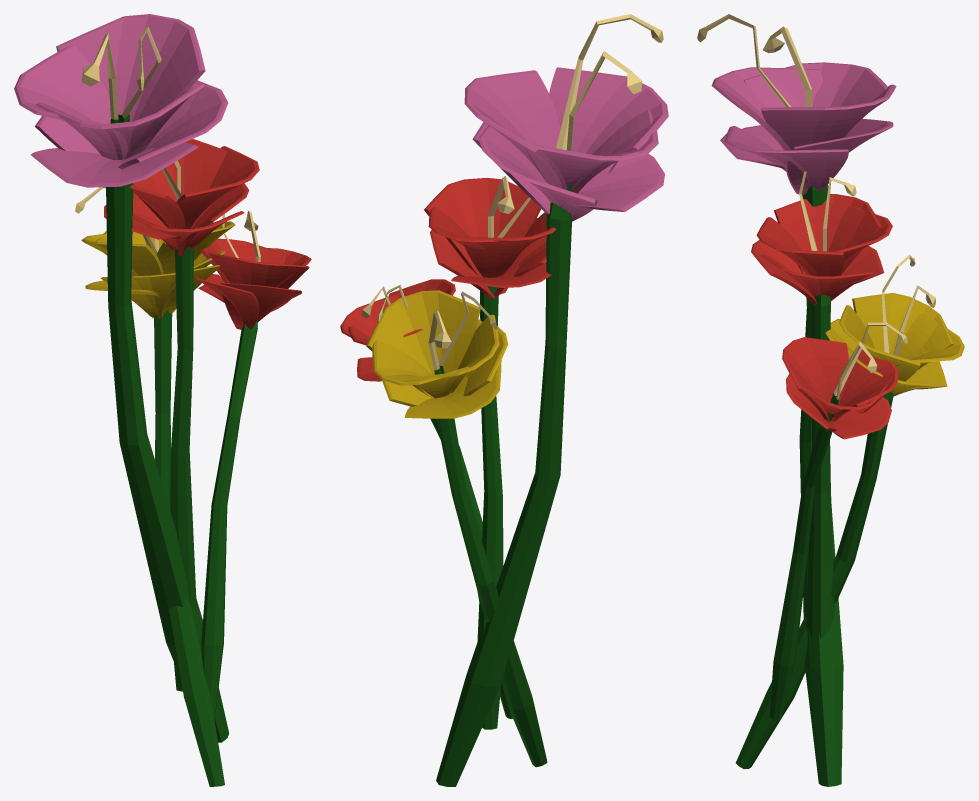
File: flowers.fbx
The picture shows the model from 3 angles, left to right: view 1: azimuth 30°, elevation 25°; view 2: azimuth 150°, elevation 25°; view 3: azimuth 270°, elevation 25°; orthographic projection. The views are drawn at different scales.
Parts seen in each view (by area): view 1: flowers; view 2: flowers; view 3: flowers.
Boxes of the visible parts, x1=… form: flowers: x1=14, y1=14, x2=311, y2=786; flowers: x1=340, y1=14, x2=668, y2=786; flowers: x1=697, y1=14, x2=964, y2=786.
Size of the model in its own units: 216 by 539 by 183.
